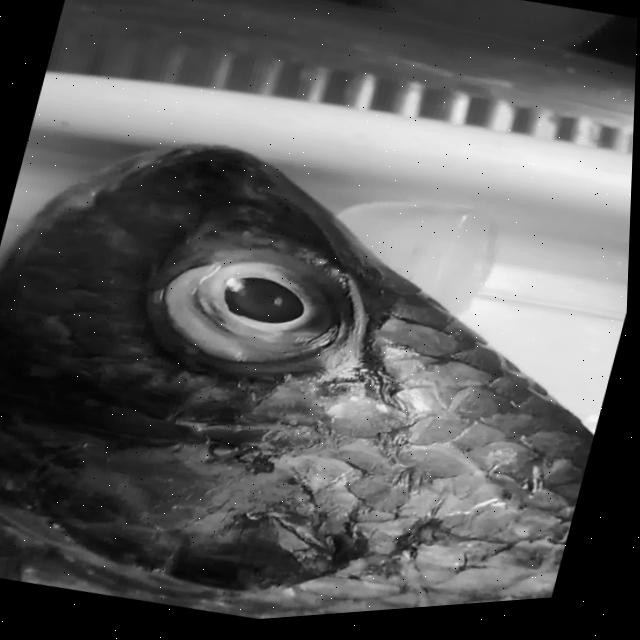Fresh: (137, 215, 425, 415)
